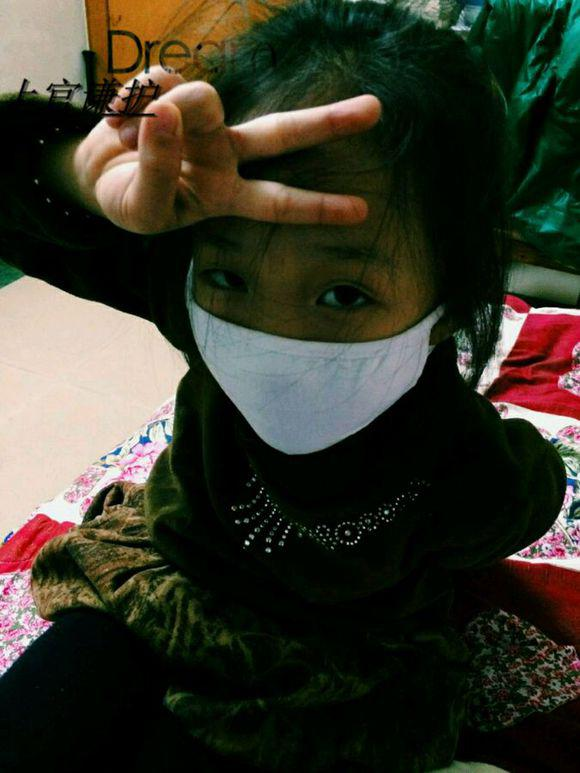OK: (183, 214, 416, 447)
